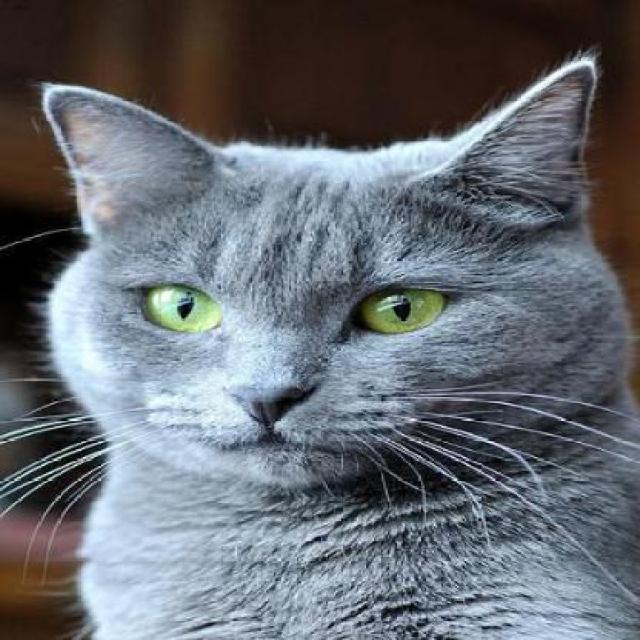cat: (40, 55, 638, 639)
